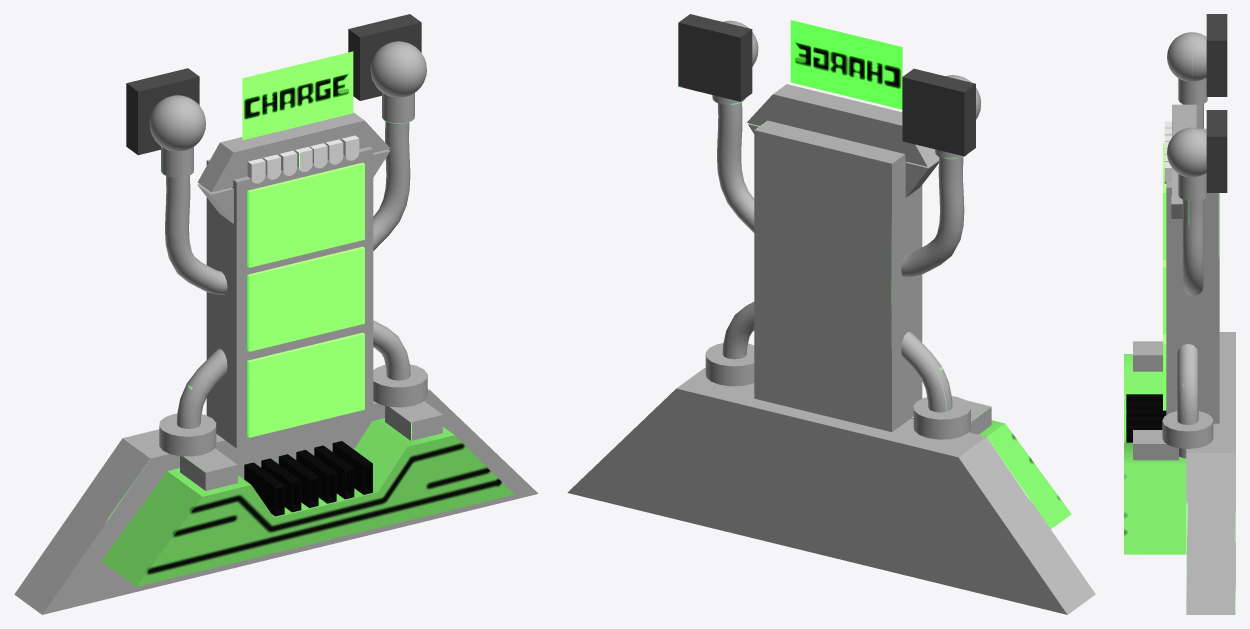
Rendered from Charging Station.fbx.
The picture shows the model from 3 angles, left to right: view 1: azimuth 30°, elevation 25°; view 2: azimuth 150°, elevation 25°; view 3: azimuth 270°, elevation 25°; orthographic projection. The views are drawn at different scales.
Visible parts, largest first — view 1: frontbase, base, Battery001, BatteryPanel001, BatteryPanel002, BatteryPanel003, Plane002, Top001, Pipe006, TopPanel001, TopPanel002, Pipe007 (+17 smaller); view 2: base, Battery001, Plane002, Top001, TopPanel002, TopPanel001, Pipe006, Pipe007, frontbase, Pipe001, Pipestart001, Pipestart002 (+2 smaller); view 3: base, Battery001, frontbase, Pipe007, TopPanel001, TopPanel002, Pipe005, TopBall002, TopBall001, Pipestart002, BaseBlock002, BaseBlock001 (+13 smaller).
Boxes of the visible parts, x1,y1,x2,y2 form: frontbase: [101, 418, 514, 586]; base: [14, 388, 538, 614]; Battery001: [206, 146, 373, 448]; BatteryPanel001: [247, 332, 364, 437]; BatteryPanel002: [247, 246, 364, 351]; BatteryPanel003: [247, 162, 364, 267]; Plane002: [242, 51, 353, 140]; Top001: [197, 112, 390, 192]; Pipe006: [165, 175, 227, 294]; TopPanel001: [126, 68, 199, 155]; TopPanel002: [348, 14, 421, 100]; Pipe007: [373, 121, 410, 250]; base: [567, 368, 1095, 614]; Battery001: [754, 120, 922, 431]; Plane002: [790, 20, 902, 109]; Top001: [747, 84, 938, 166]; TopPanel002: [678, 14, 752, 101]; TopPanel001: [902, 68, 975, 156]; Pipe006: [901, 157, 964, 277]; Pipe007: [717, 102, 754, 232]; frontbase: [978, 420, 1071, 528]; Pipe001: [901, 332, 952, 412]; Pipestart001: [913, 396, 970, 439]; Pipestart002: [705, 343, 754, 386]; base: [1186, 332, 1235, 614]; Battery001: [1166, 128, 1219, 423]; frontbase: [1124, 354, 1186, 554]; Pipe007: [1182, 199, 1203, 296]; TopPanel001: [1206, 14, 1227, 96]; TopPanel002: [1206, 110, 1227, 192]; Pipe005: [1177, 343, 1198, 458]; TopBall002: [1167, 127, 1206, 177]; TopBall001: [1167, 32, 1206, 81]; Pipestart002: [1162, 411, 1213, 448]; BaseBlock002: [1133, 430, 1178, 460]; BaseBlock001: [1133, 341, 1162, 371].
Bounding box in the file's own units: 80 × 75.73 × 17.61.
1 material, 1 textured.
